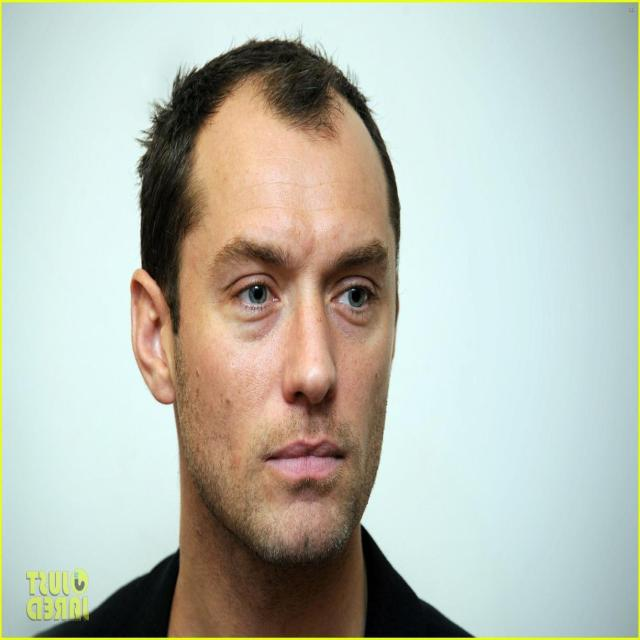no-earmuff: (129, 267, 178, 403)
